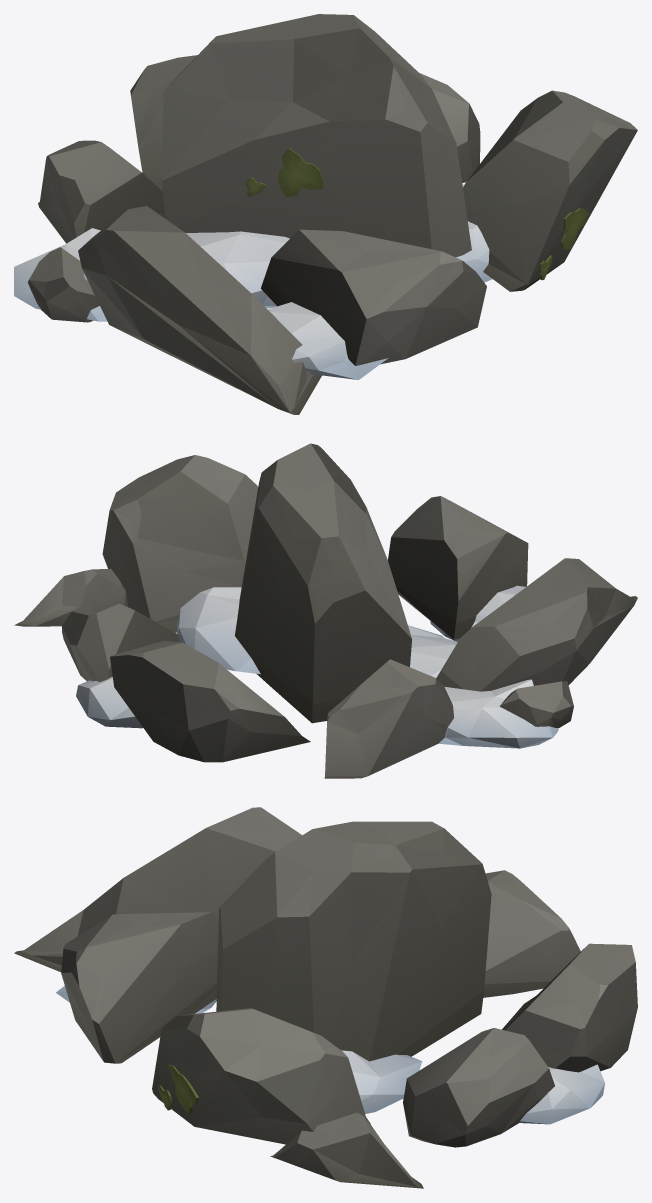
The model's file is scree-rock-cluster.glb.
The picture shows the model from 3 angles, top to bottom: view 1: azimuth 30°, elevation 25°; view 2: azimuth 150°, elevation 25°; view 3: azimuth 270°, elevation 25°; orthographic projection. The views are drawn at different scales.
Visible parts, largest first — view 1: scree_rock_cluster; view 2: scree_rock_cluster; view 3: scree_rock_cluster.
Boxes of the visible parts, x1=… form: scree_rock_cluster: x1=14, y1=14, x2=637, y2=414; scree_rock_cluster: x1=14, y1=443, x2=637, y2=778; scree_rock_cluster: x1=14, y1=807, x2=637, y2=1188.
Bounding box in the file's own units: 1.23 × 0.46 × 1.15.
